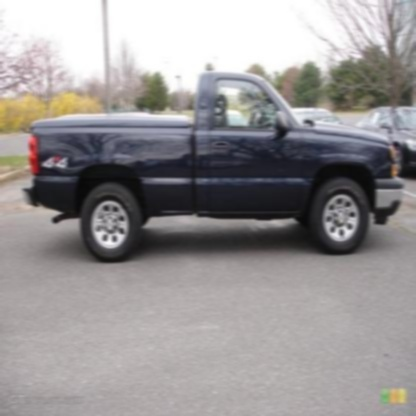Vehicle: (23, 69, 406, 263)
